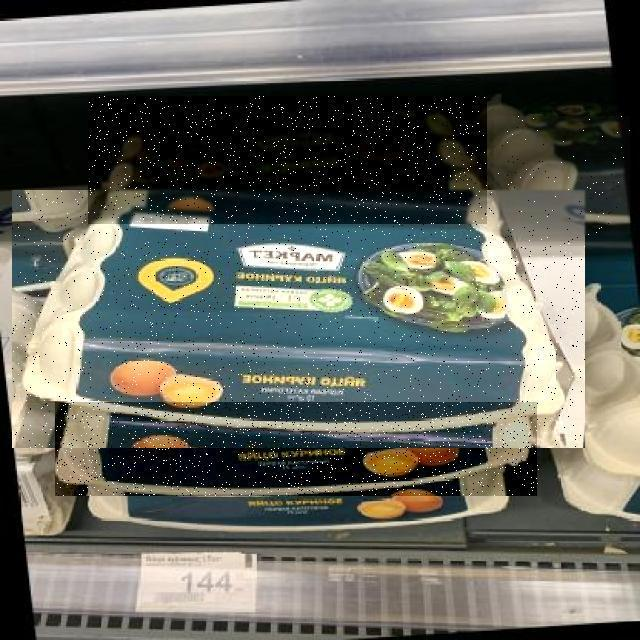Eggs: (12, 190, 585, 448), (88, 96, 487, 224), (56, 402, 540, 496), (495, 116, 631, 235)
